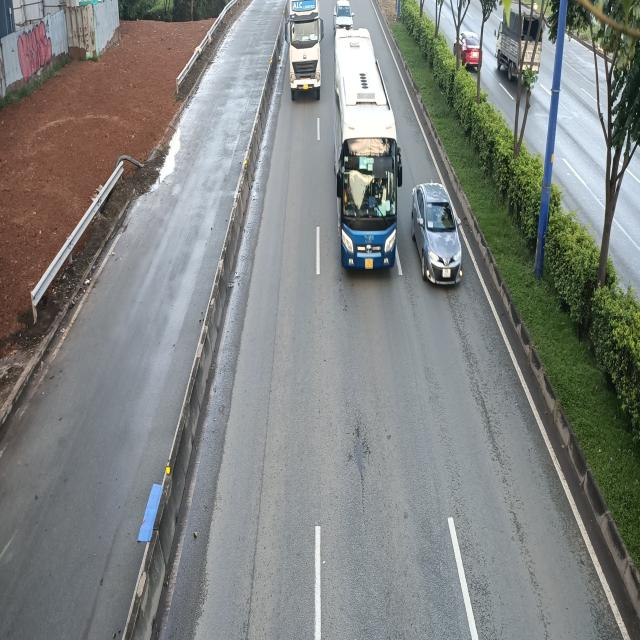car: (412, 179, 463, 286)
coach: (336, 29, 404, 272)
container: (284, 0, 321, 99)
